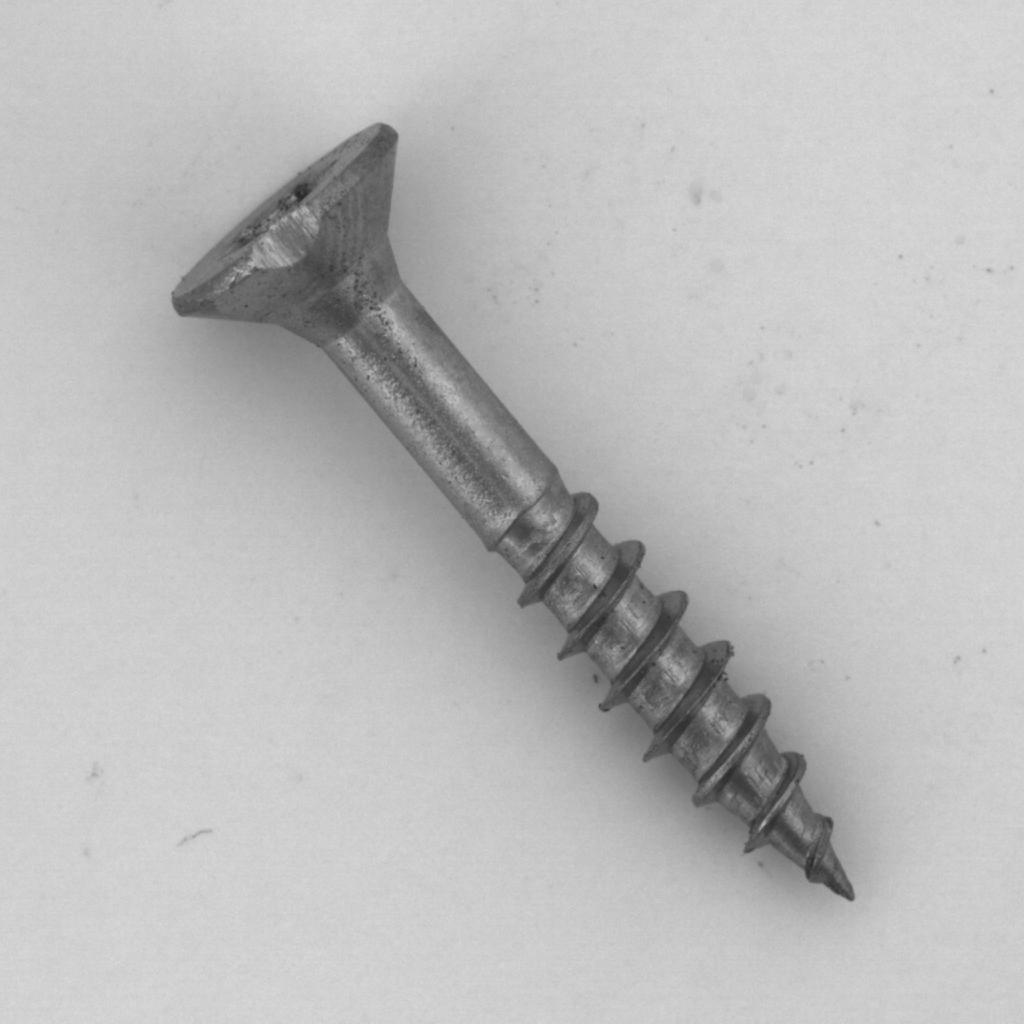scratch_neck: (79, 194, 947, 847)
